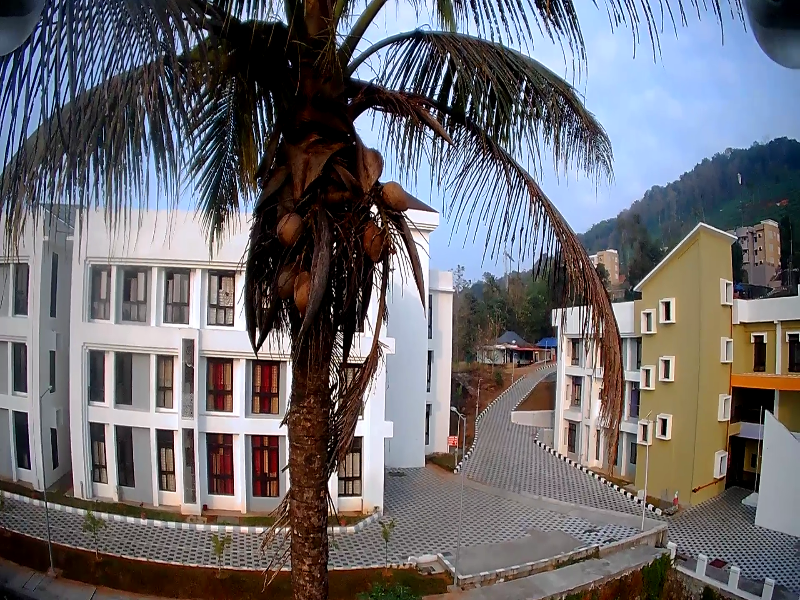coconut: (358, 216, 394, 265), (290, 272, 317, 320), (375, 180, 416, 211), (273, 209, 305, 246), (277, 267, 297, 297)
